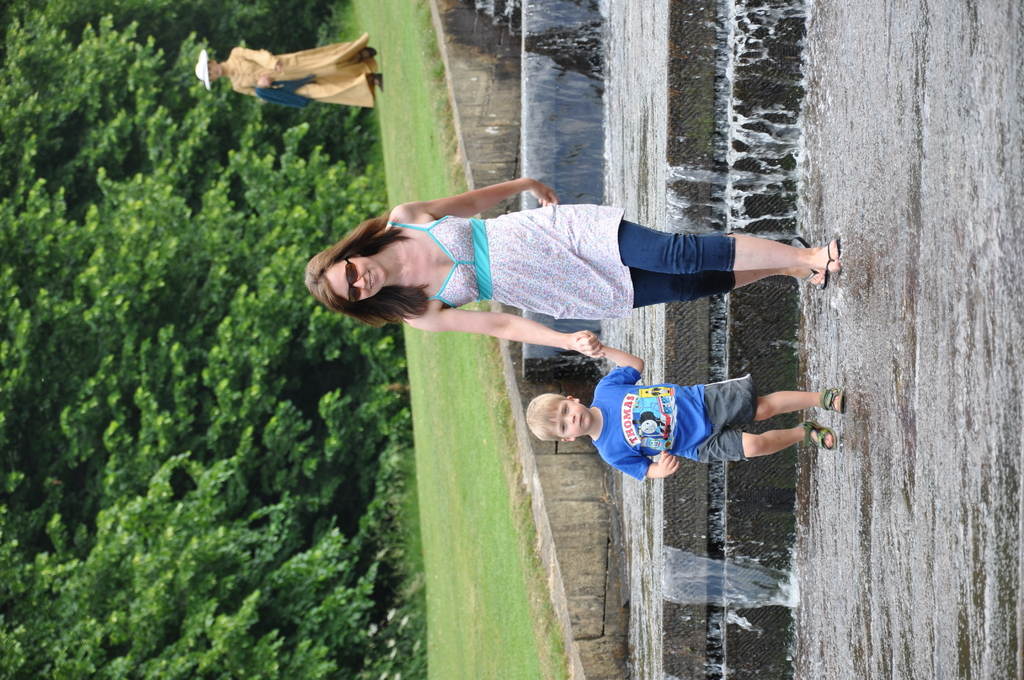Person: (302, 176, 840, 359), (195, 31, 383, 107)
